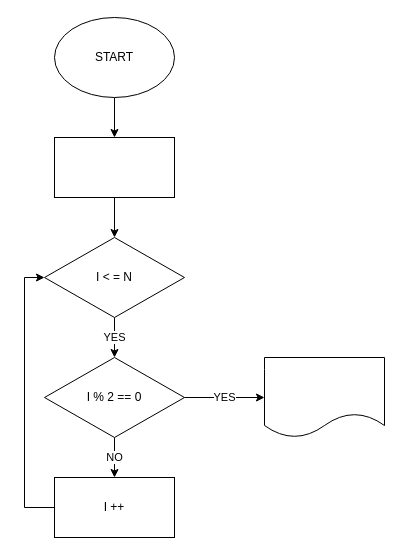
Image size: 402x555. Some labels were removed from this diagram. Each missing label, with the box of its shape:
N = 5 I = 1 RESULT: (54, 136, 174, 198)
RESULT: (264, 356, 384, 438)
